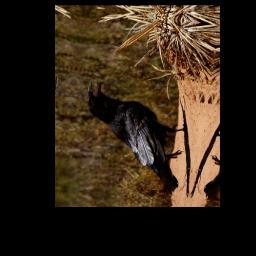Crow: (72, 81, 194, 196)
